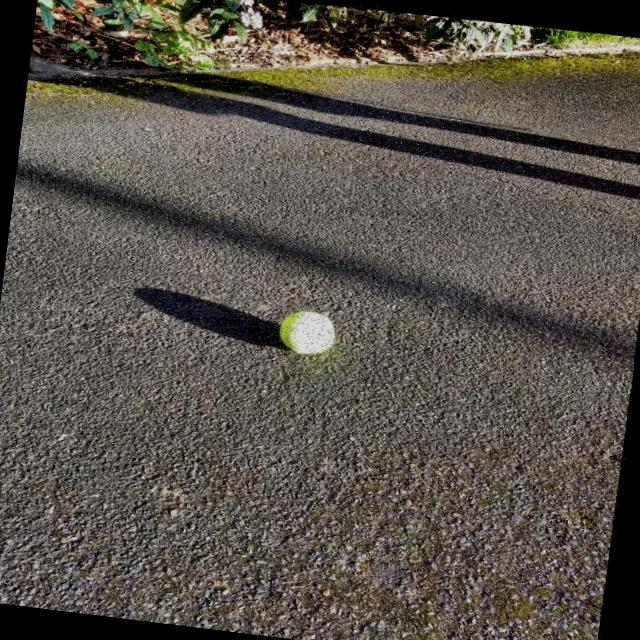Tennis Ball: (260, 299, 343, 366)
